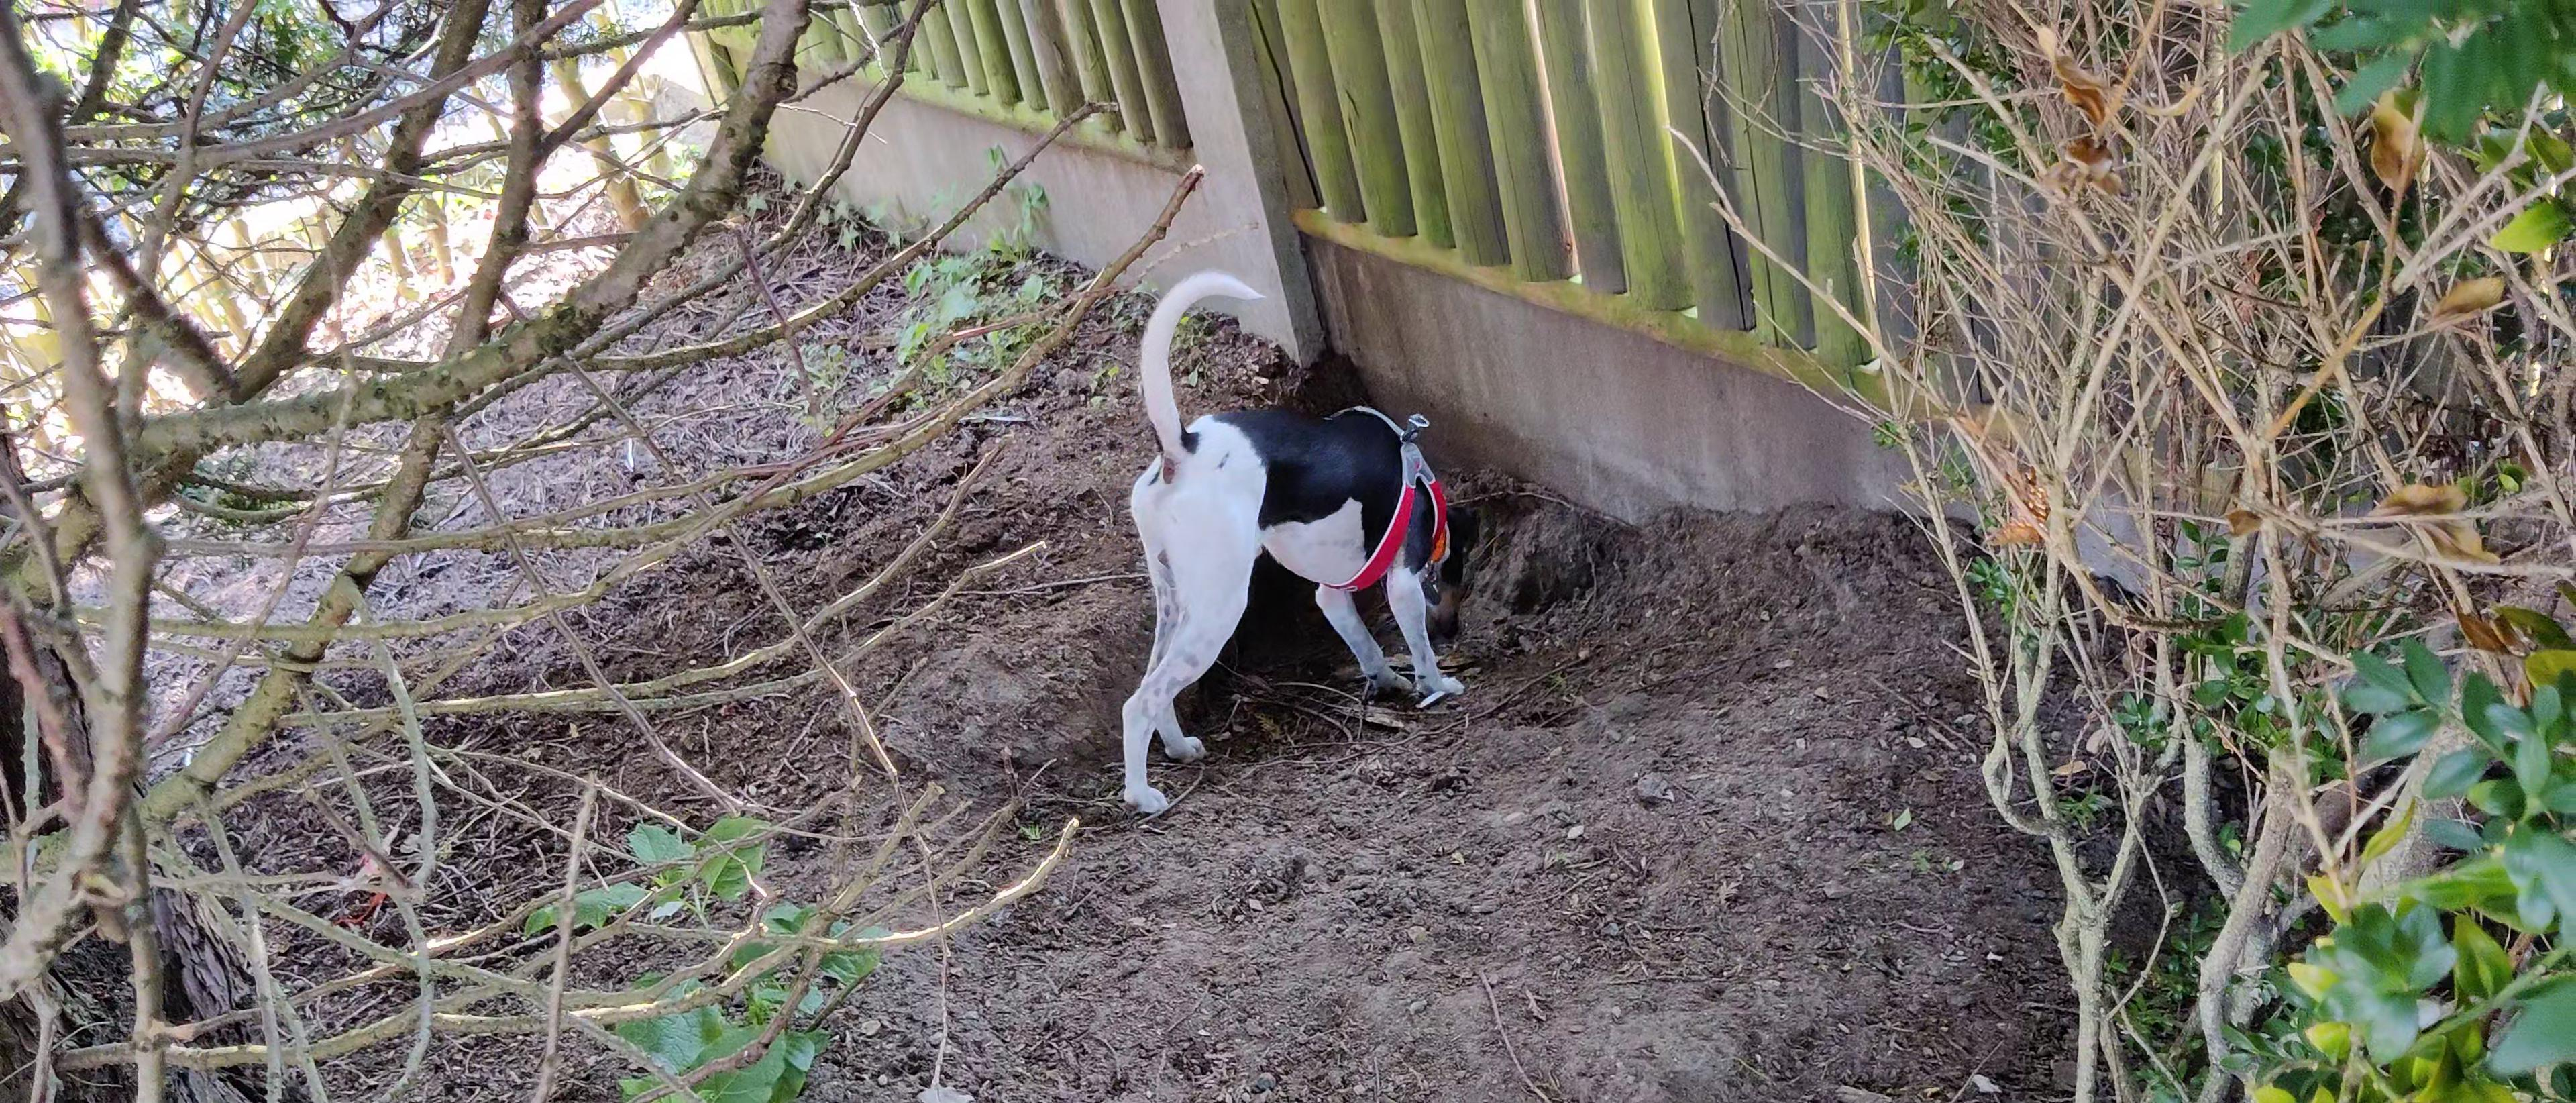Dog: (1076, 260, 1493, 820)
